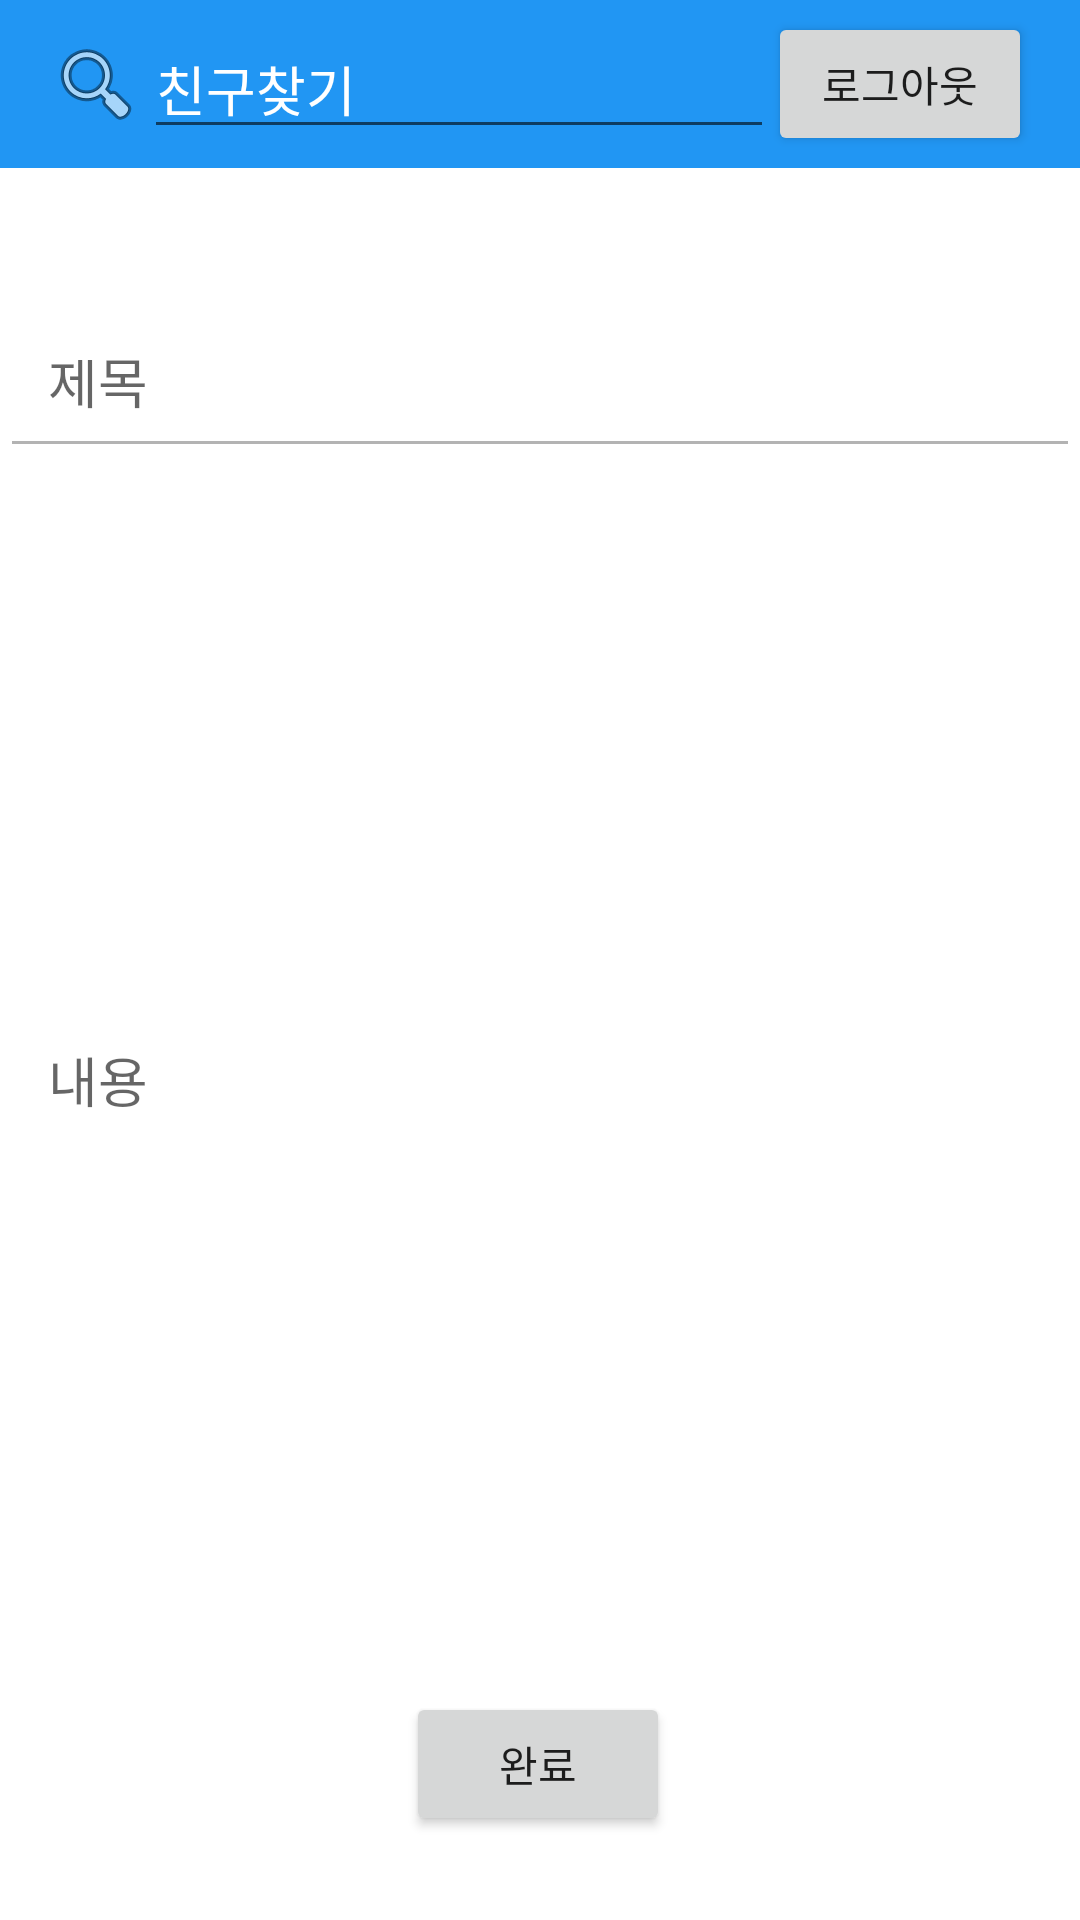

Screen size 1080x1920. Icon name, then its center in pixels as (x=x, y=y):
search: (x=96, y=84)
